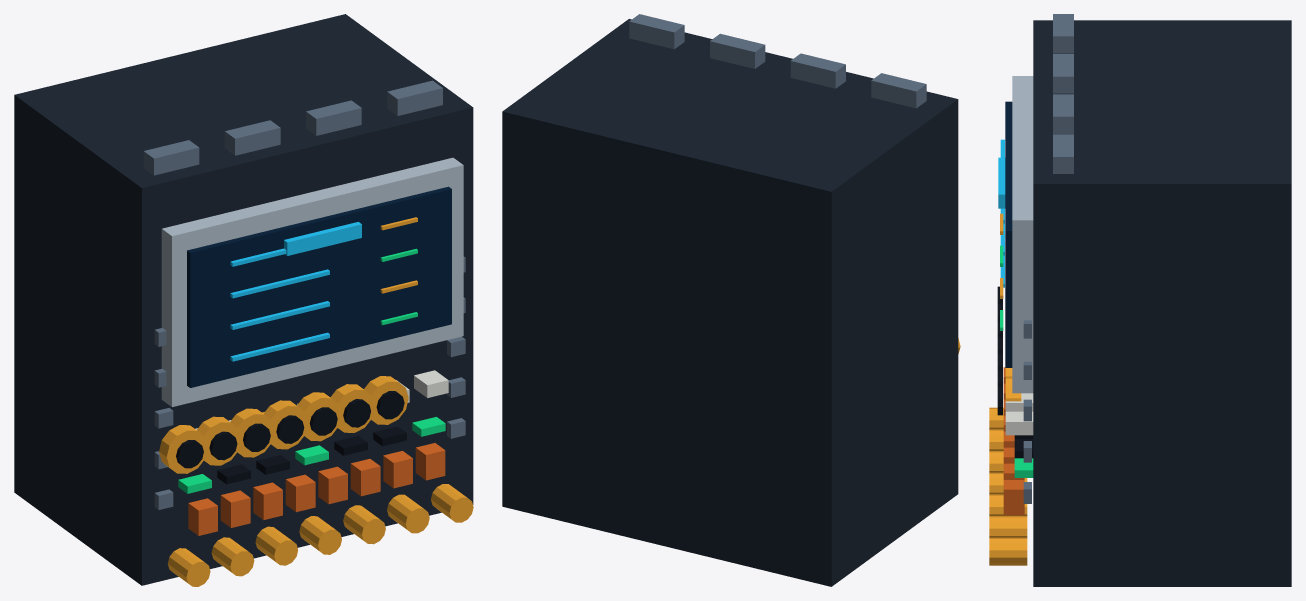
Rendered from 70_L87_MagneticBearingSafetyPLC.fbx.
3 views of the same model, side by side, from view 1: azimuth 30°, elevation 25°; view 2: azimuth 150°, elevation 25°; view 3: azimuth 270°, elevation 25° (orthographic).
Parts seen in each view (by area): view 1: L87_MagneticBearingSafetyPLC, L87_MagneticBearingSafetyPLC_Part_0010, L87_MagneticBearingSafetyPLC_Part_0011, L87_MagneticBearingSafetyPLC_Part_0012, L87_MagneticBearingSafetyPLC_Part_0024, L87_MagneticBearingSafetyPLC_Part_0022, L87_MagneticBearingSafetyPLC_Part_0018, L87_MagneticBearingSafetyPLC_Part_0016, L87_MagneticBearingSafetyPLC_Part_0020, L87_MagneticBearingSafetyPLC_Part_0014, L87_MagneticBearingSafetyPLC_Part_0021, L87_MagneticBearingSafetyPLC_Part_0015 (+5 smaller); view 2: L87_MagneticBearingSafetyPLC, L87_MagneticBearingSafetyPLC_Part_0010; view 3: L87_MagneticBearingSafetyPLC, L87_MagneticBearingSafetyPLC_Part_0010, L87_MagneticBearingSafetyPLC_Part_0011.
Boxes of the visible parts, x1,y1,x2,y2 form: L87_MagneticBearingSafetyPLC: (14, 14, 473, 586); L87_MagneticBearingSafetyPLC_Part_0010: (143, 80, 442, 175); L87_MagneticBearingSafetyPLC_Part_0011: (284, 222, 361, 255); L87_MagneticBearingSafetyPLC_Part_0012: (159, 425, 207, 473); L87_MagneticBearingSafetyPLC_Part_0024: (364, 376, 408, 424); L87_MagneticBearingSafetyPLC_Part_0022: (330, 384, 374, 432); L87_MagneticBearingSafetyPLC_Part_0018: (263, 400, 307, 449); L87_MagneticBearingSafetyPLC_Part_0016: (230, 408, 272, 457); L87_MagneticBearingSafetyPLC_Part_0020: (297, 392, 341, 441); L87_MagneticBearingSafetyPLC_Part_0014: (197, 416, 240, 465); L87_MagneticBearingSafetyPLC_Part_0021: (309, 407, 337, 435); L87_MagneticBearingSafetyPLC_Part_0015: (209, 431, 237, 460); L87_MagneticBearingSafetyPLC: (502, 19, 958, 586); L87_MagneticBearingSafetyPLC_Part_0010: (629, 14, 926, 108); L87_MagneticBearingSafetyPLC: (989, 20, 1291, 586); L87_MagneticBearingSafetyPLC_Part_0010: (1053, 14, 1073, 173); L87_MagneticBearingSafetyPLC_Part_0011: (998, 157, 1005, 208).
Bounding box in the file's own units: 104 × 124 × 81.09.
